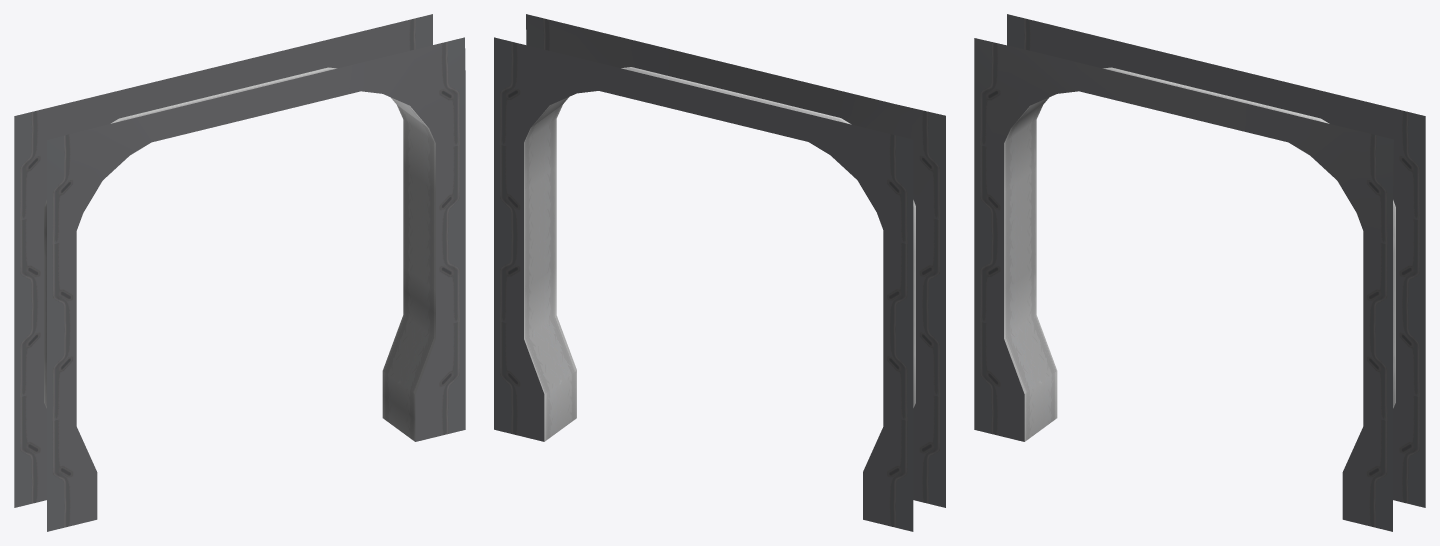
Rendered from mdlArchHubEdit.fbx.
The picture shows the model from 3 angles, left to right: view 1: azimuth 30°, elevation 25°; view 2: azimuth 150°, elevation 25°; view 3: azimuth 330°, elevation 25°; orthographic projection.
Parts seen in each view (by area): view 1: ArchForHub; view 2: ArchForHub; view 3: ArchForHub.
Boxes of the visible parts, bbox=[...] form: ArchForHub: bbox=[14, 14, 465, 531]; ArchForHub: bbox=[494, 14, 945, 531]; ArchForHub: bbox=[974, 14, 1425, 531].
Size of the model in its own units: 6255 by 5592 by 844.
